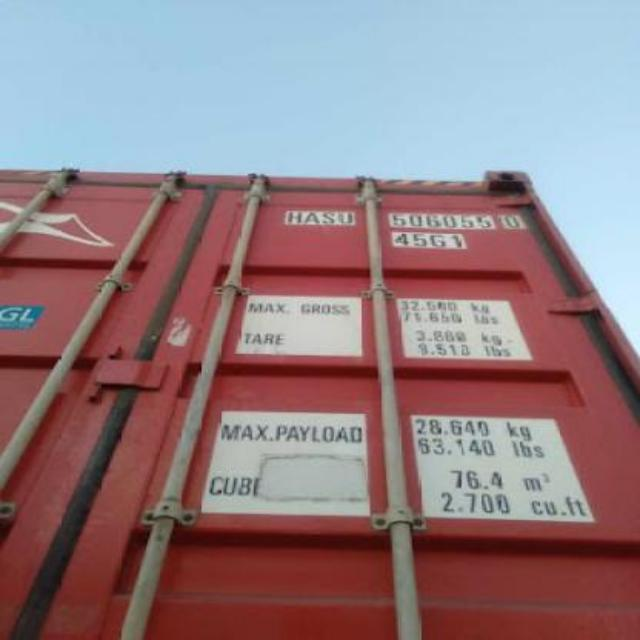0: (498, 208, 528, 230), (438, 206, 456, 230), (406, 206, 422, 228)
5: (388, 205, 406, 231), (458, 206, 476, 230), (476, 206, 494, 230)
6: (424, 204, 440, 230)
A: (300, 206, 320, 227)
H: (286, 205, 302, 223)
S: (322, 200, 336, 230)
U: (338, 206, 358, 228)
